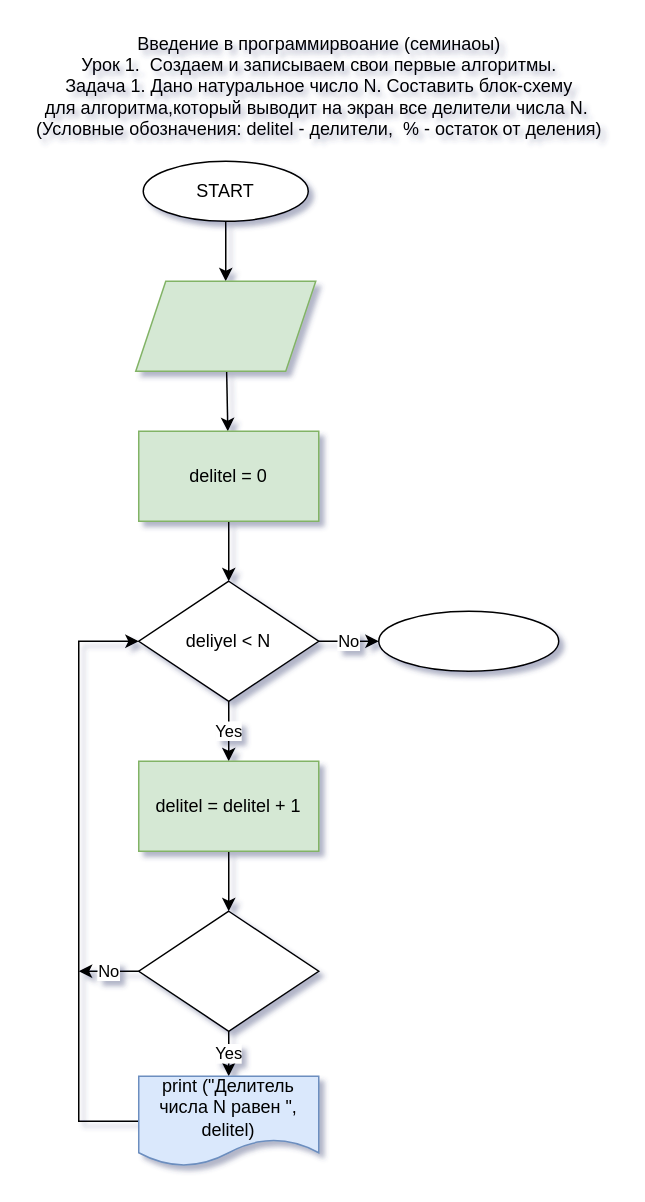
The diagram is 645 pixels wide and 1202 high, and some of its shapes have lost their labels. Each missing label, with the box of its shape:
END: (377, 610, 559, 671)
Input N: (134, 280, 316, 371)
N % delitel == 0: (137, 910, 319, 1031)
